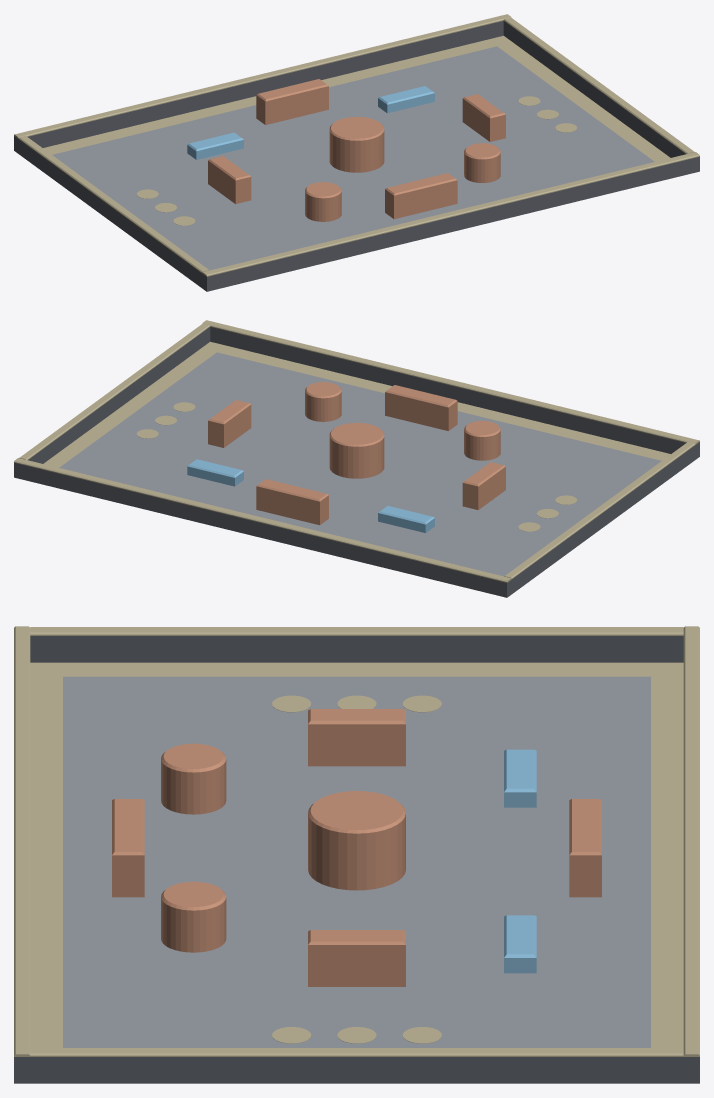
Rendered from arena01.glb.
3 views of the same model, one above another, from view 1: azimuth 30°, elevation 25°; view 2: azimuth 150°, elevation 25°; view 3: azimuth 270°, elevation 25° (orthographic). The views are drawn at different scales.
Visible parts, largest first — view 1: Floor, Wall_S, Wall_N, Wall_W, Wall_E, Obstacle_0, Obstacle_8, Obstacle_7, Obstacle_2, Obstacle_1, Obstacle_5, Obstacle_6 (+2 smaller); view 2: Floor, Wall_N, Wall_S, Wall_W, Wall_E, Obstacle_0, Obstacle_7, Obstacle_8, Obstacle_2, Obstacle_1, Obstacle_6, Obstacle_5 (+2 smaller); view 3: Floor, Wall_E, Wall_W, Obstacle_0, Wall_N, Wall_S, Obstacle_1, Obstacle_2, Obstacle_6, Obstacle_5, Obstacle_7, Obstacle_8 (+2 smaller).
Boxes of the visible parts, x1=… form: Floor: x1=43, y1=35, x2=670, y2=270; Wall_S: x1=202, y1=152, x2=699, y2=291; Wall_N: x1=14, y1=14, x2=511, y2=153; Wall_W: x1=18, y1=135, x2=209, y2=287; Wall_E: x1=503, y1=17, x2=694, y2=157; Obstacle_0: x1=329, y1=117, x2=384, y2=172; Obstacle_8: x1=385, y1=173, x2=457, y2=219; Obstacle_7: x1=256, y1=79, x2=328, y2=124; Obstacle_2: x1=462, y1=94, x2=505, y2=141; Obstacle_1: x1=208, y1=156, x2=251, y2=203; Obstacle_5: x1=305, y1=182, x2=341, y2=221; Obstacle_6: x1=464, y1=143, x2=500, y2=182; Floor: x1=43, y1=341, x2=670, y2=576; Wall_N: x1=14, y1=458, x2=511, y2=597; Wall_S: x1=202, y1=320, x2=699, y2=459; Wall_W: x1=504, y1=441, x2=695, y2=593; Wall_E: x1=19, y1=323, x2=210, y2=463; Obstacle_0: x1=329, y1=423, x2=384, y2=478; Obstacle_7: x1=256, y1=479, x2=328, y2=525; Obstacle_8: x1=385, y1=385, x2=457, y2=430; Obstacle_2: x1=208, y1=400, x2=251, y2=447; Obstacle_1: x1=462, y1=462, x2=505, y2=509; Obstacle_6: x1=305, y1=382, x2=341, y2=421; Obstacle_5: x1=464, y1=421, x2=500, y2=460; Floor: x1=30, y1=662, x2=683, y2=1047; Wall_E: x1=30, y1=1048, x2=683, y2=1083; Wall_W: x1=30, y1=627, x2=683, y2=662; Obstacle_0: x1=308, y1=791, x2=405, y2=890; Wall_N: x1=683, y1=626, x2=699, y2=1083; Wall_S: x1=14, y1=626, x2=30, y2=1083; Obstacle_1: x1=308, y1=709, x2=405, y2=766; Obstacle_2: x1=308, y1=930, x2=405, y2=986; Obstacle_6: x1=161, y1=881, x2=226, y2=952; Obstacle_5: x1=161, y1=743, x2=226, y2=814; Obstacle_7: x1=569, y1=799, x2=601, y2=897; Obstacle_8: x1=112, y1=799, x2=144, y2=897.
Size of the model in its own units: 31 by 2.2 by 21.
